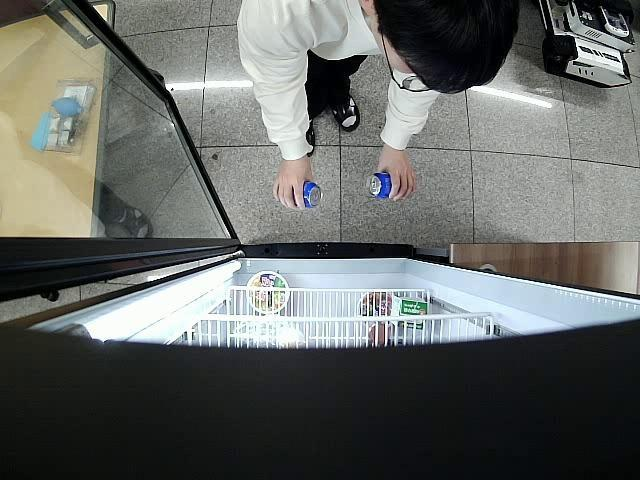13_pocariSweat: (276, 182, 323, 210), (364, 171, 392, 200)
